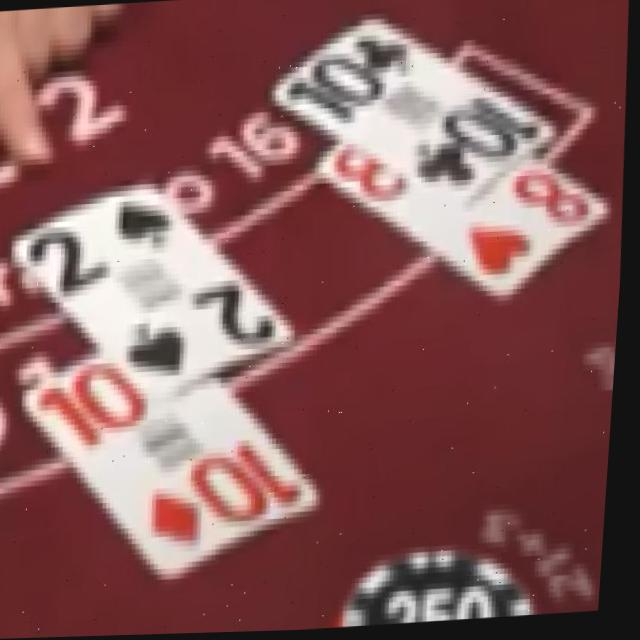Card-10: (28, 351, 324, 584), (275, 17, 557, 209)
Card-2: (14, 179, 302, 403)
Card-8: (321, 143, 613, 303)
